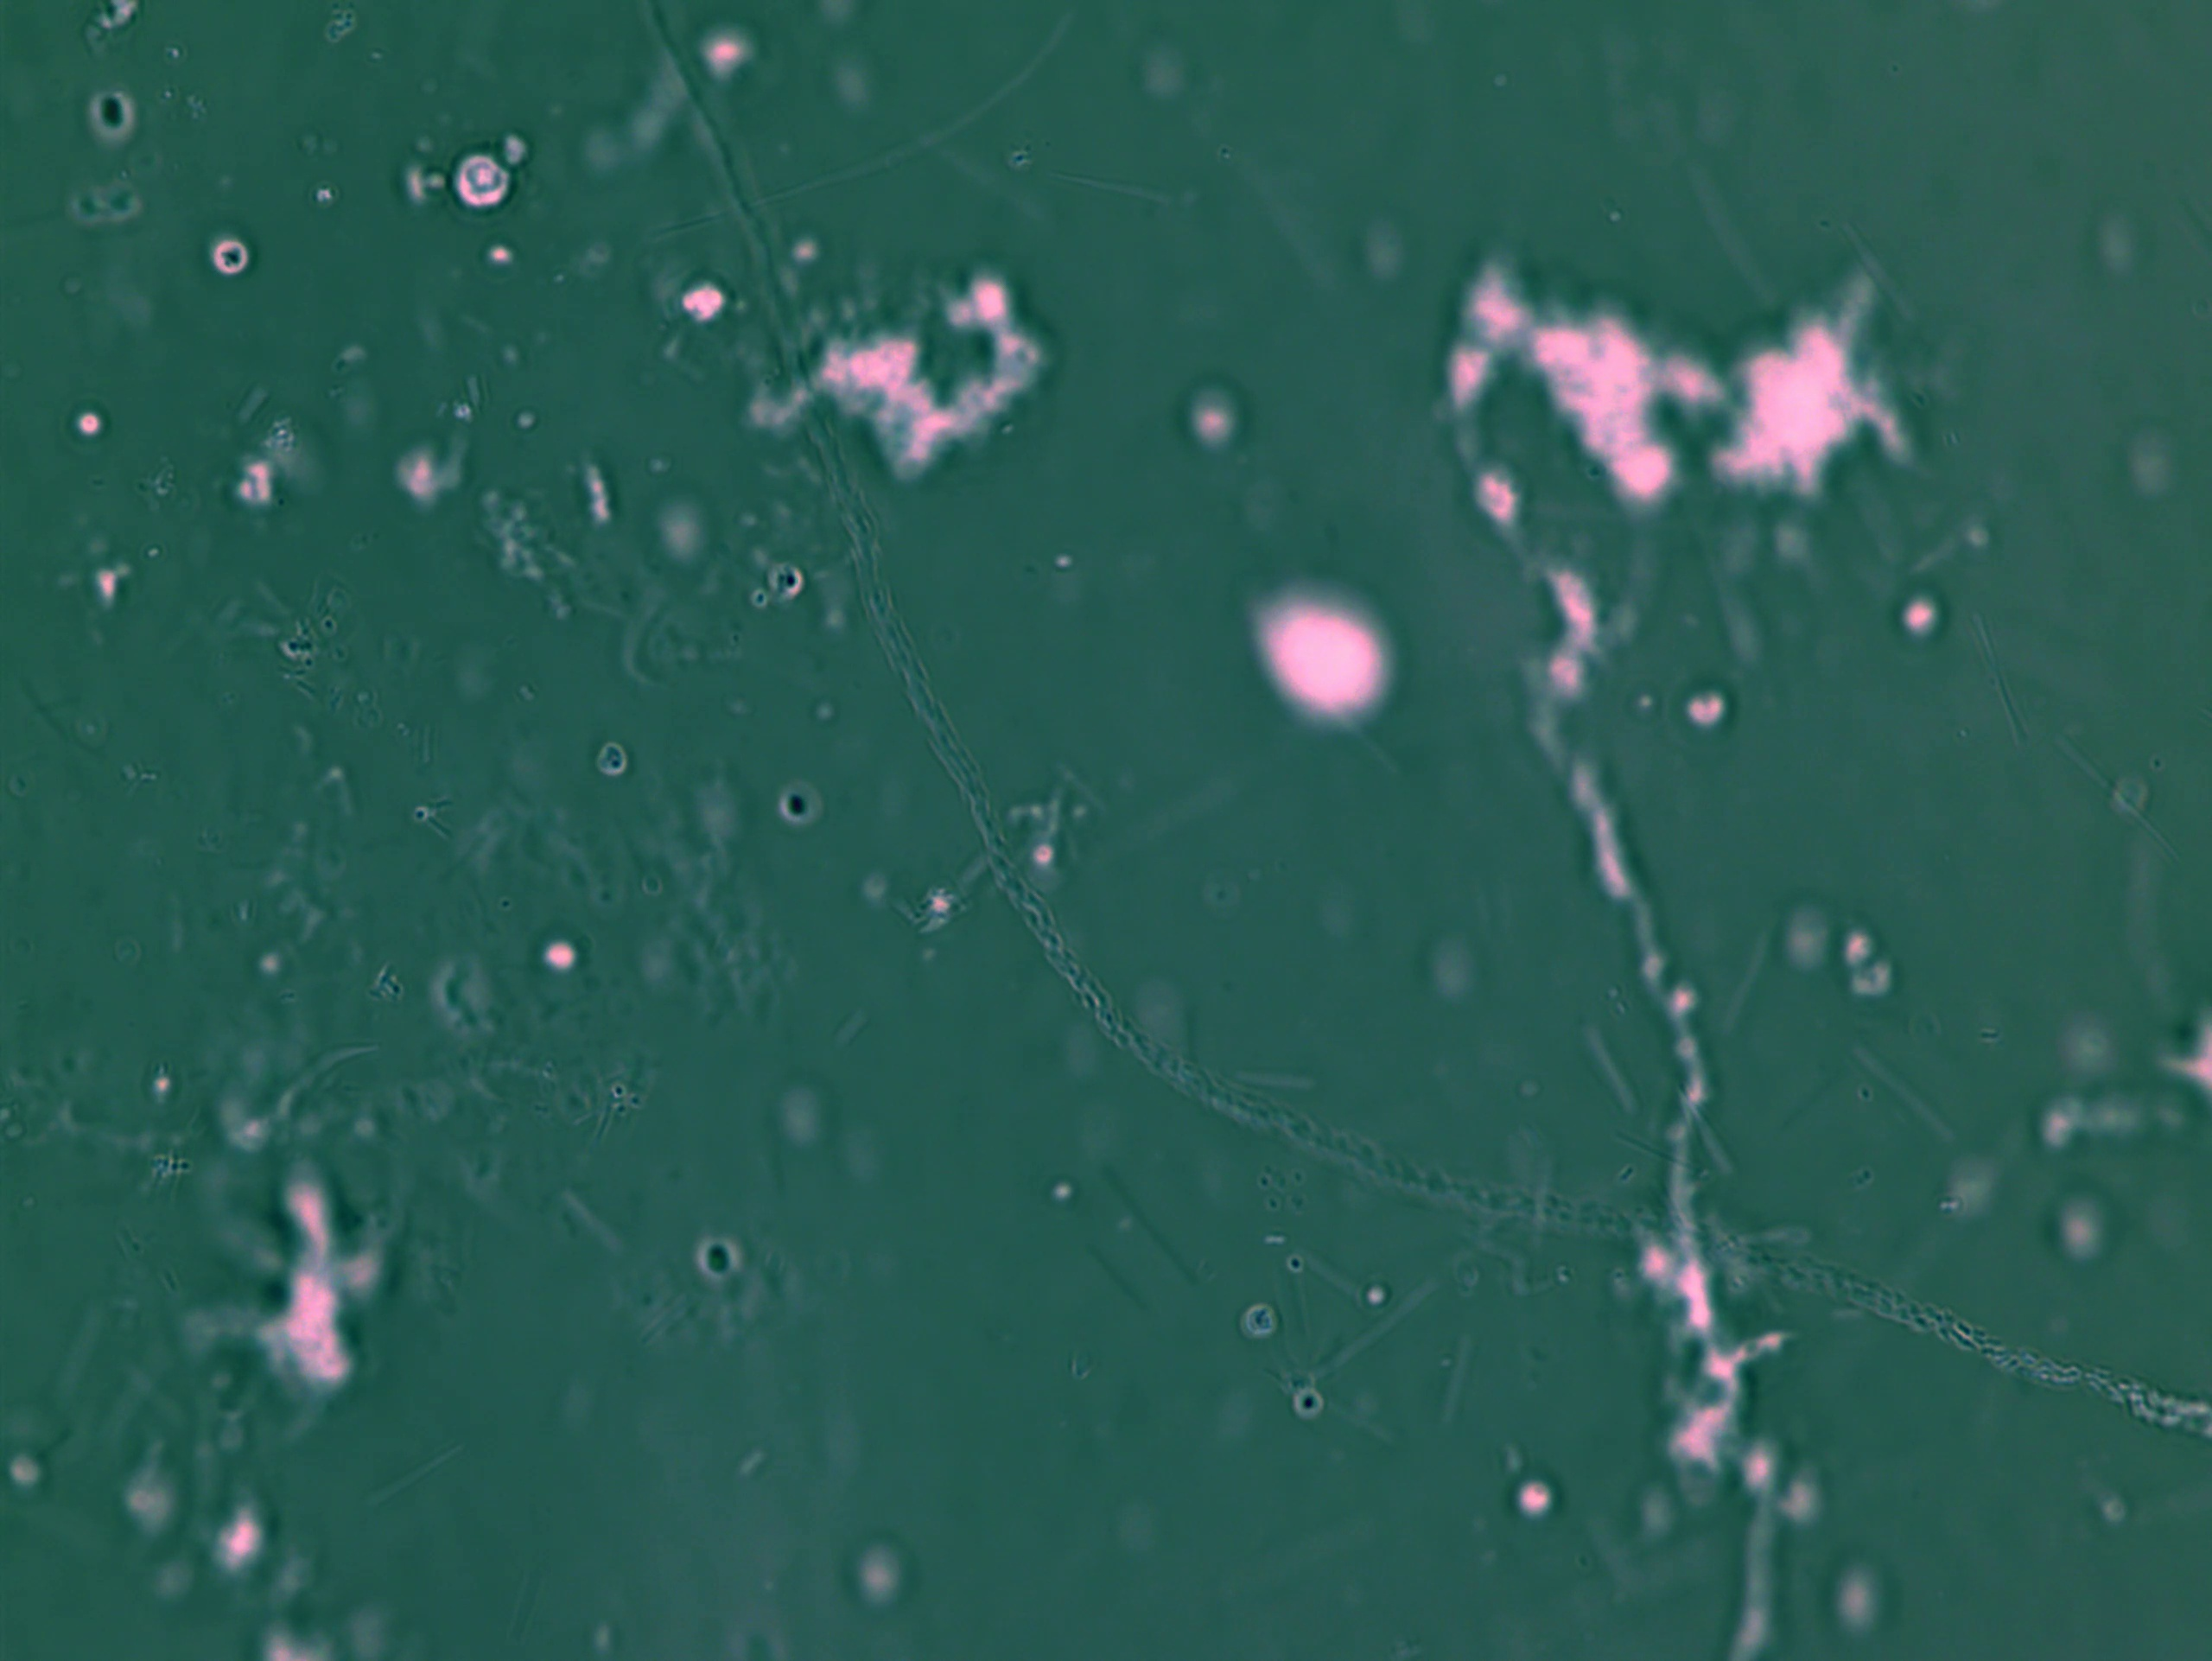depth:80: (1240, 553, 1423, 775)
